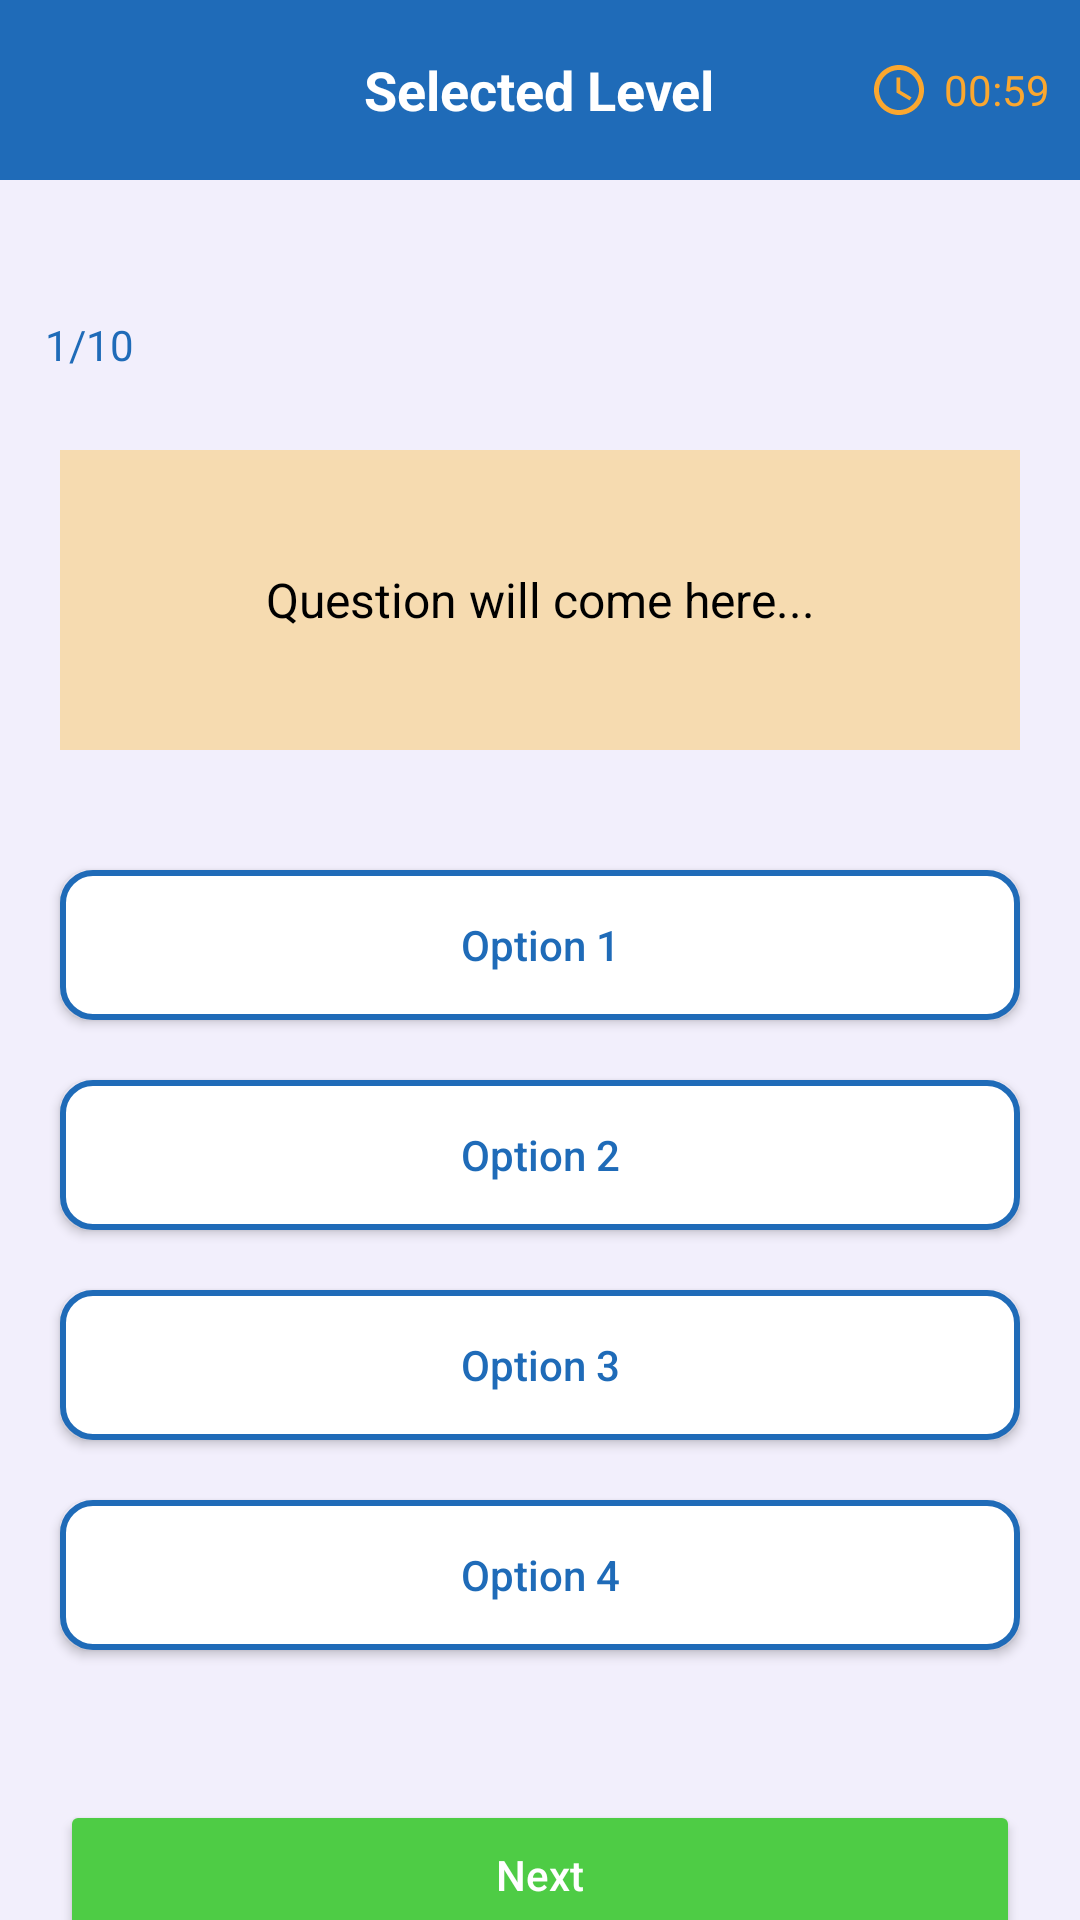

Icon bounding boxes for this 1080x1920 phone screenshot, format {"left": x1, "top": y1, "right": x2, "bottom": y2}:
access time: {"left": 874, "top": 65, "right": 924, "bottom": 115}
